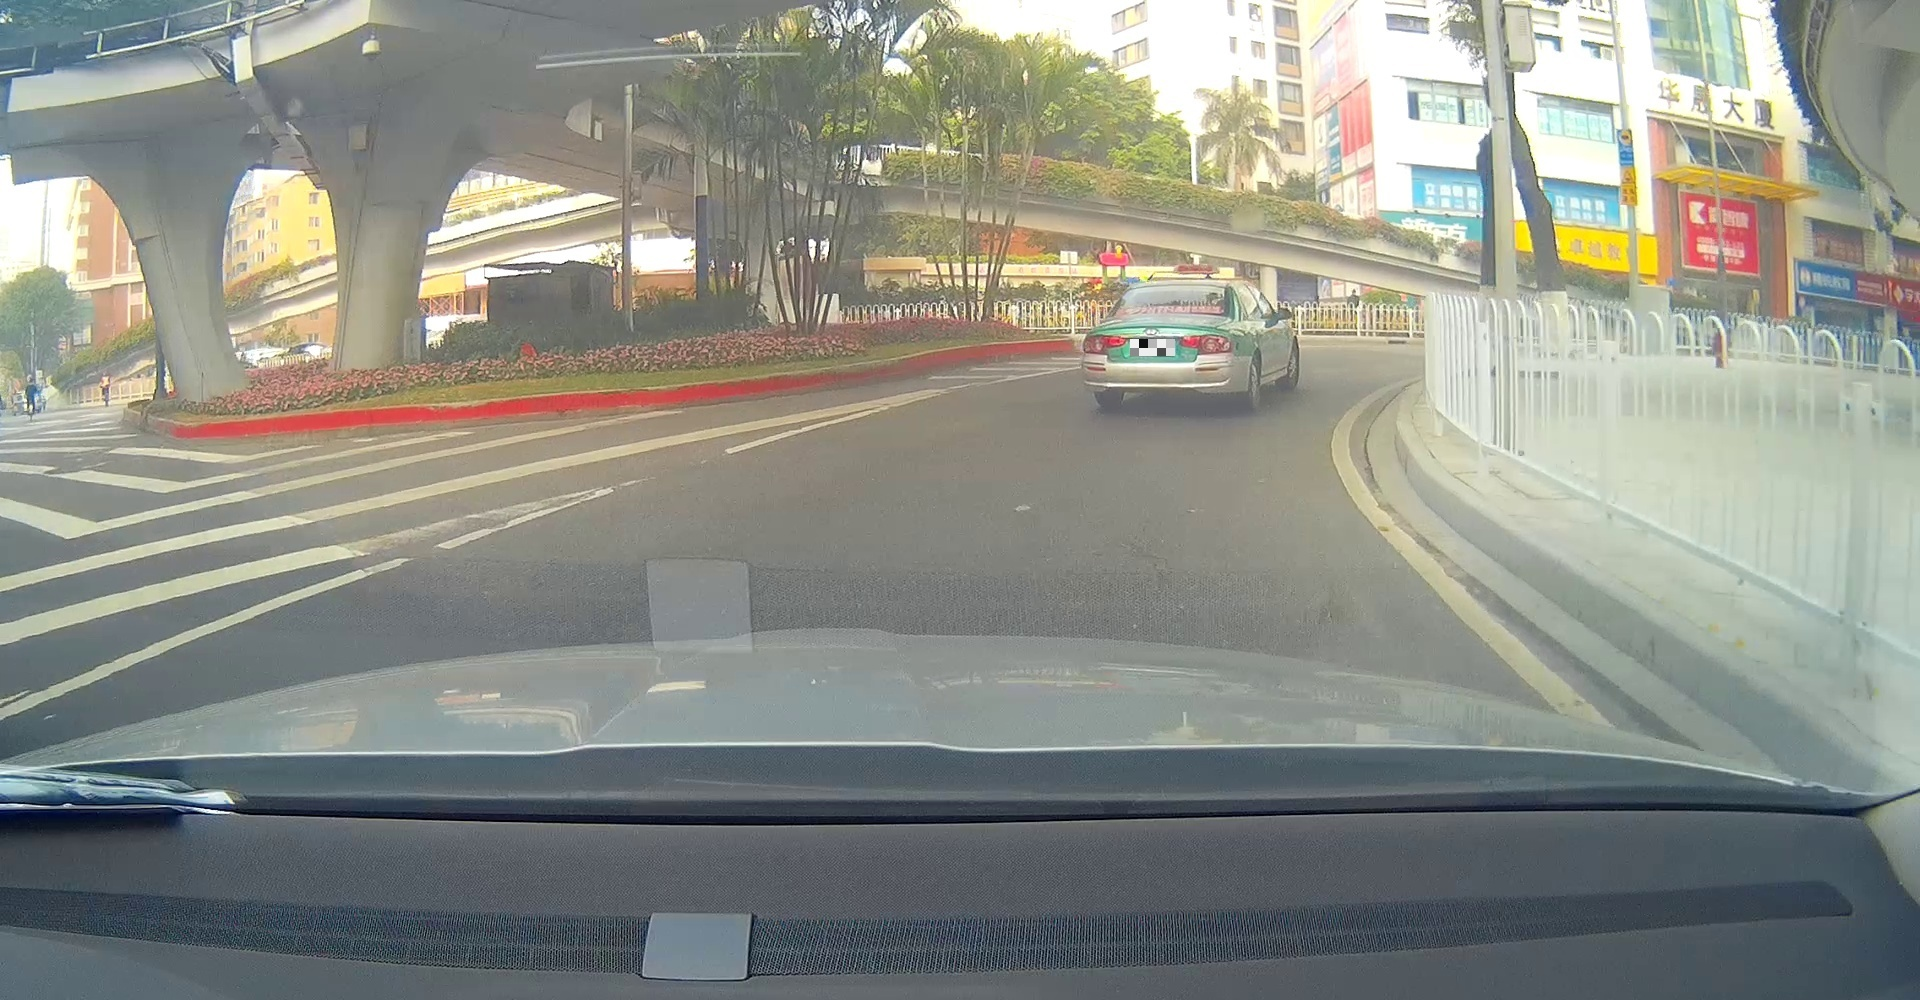L_light: (1083, 332, 1126, 353)
R_light: (1178, 334, 1230, 353)
T_light: (1167, 286, 1189, 291)
day-no: (1082, 280, 1233, 412)
plate_1: (1130, 339, 1175, 357)
